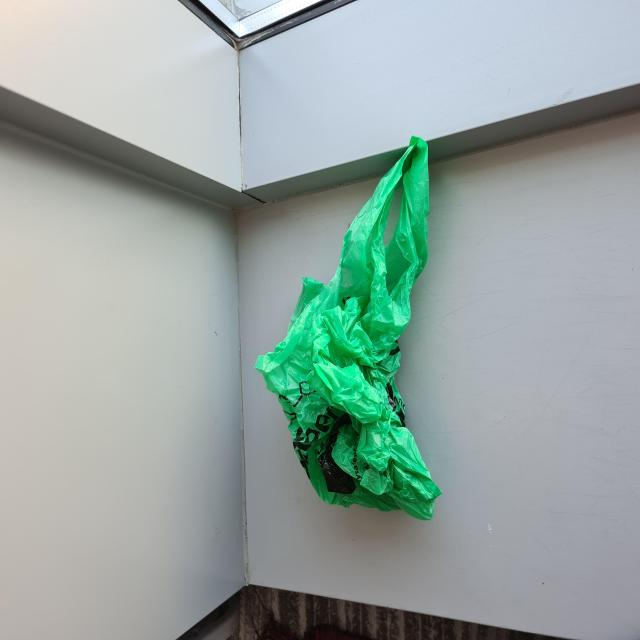plastic bag: (253, 130, 442, 520)
